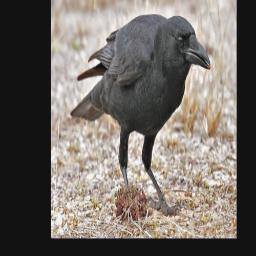Crow: (70, 14, 211, 216)
